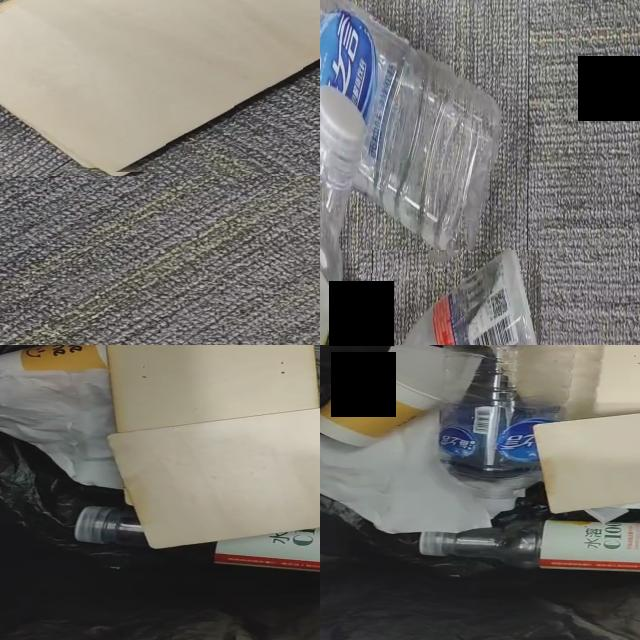bottle: (320, 0, 502, 261), (438, 345, 573, 514), (402, 250, 538, 345), (320, 86, 365, 345), (418, 520, 640, 572), (160, 528, 320, 572), (74, 506, 150, 550)
carton: (0, 0, 320, 174), (107, 345, 320, 548), (535, 413, 640, 512), (515, 345, 640, 420)
dixie_cup: (320, 364, 445, 446), (0, 345, 105, 372)
paper: (320, 414, 493, 534), (0, 370, 121, 489), (380, 345, 450, 402), (586, 503, 640, 523)
